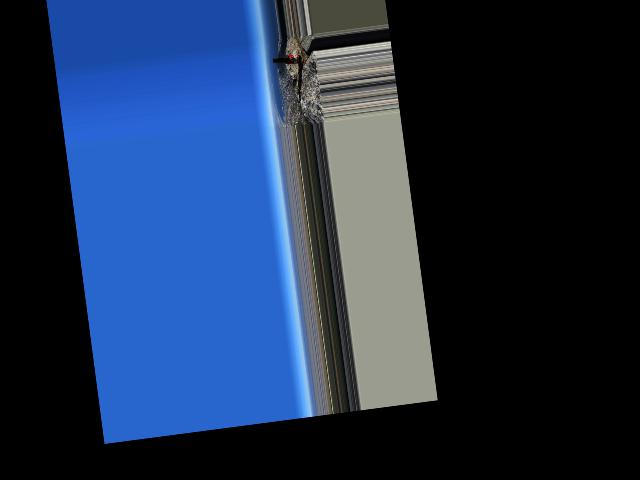beer: (272, 53, 301, 66)
